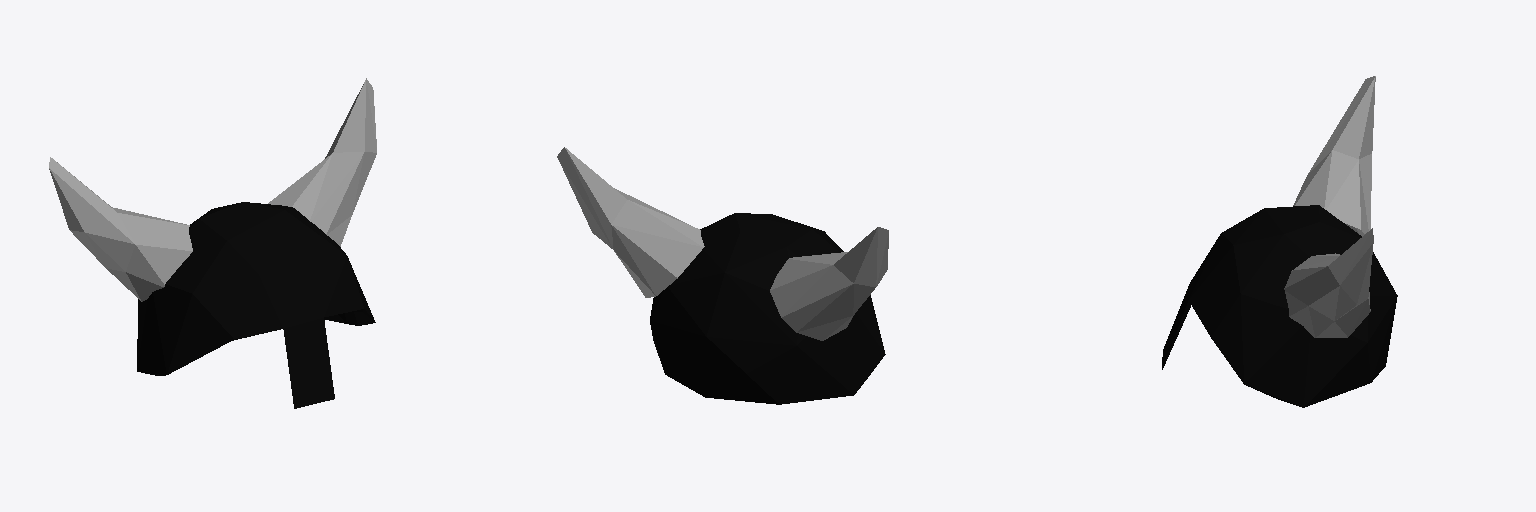
The model's file is helmet_horns.obj.
3 renders of one model, left to right at view 1: azimuth 30°, elevation 25°; view 2: azimuth 150°, elevation 25°; view 3: azimuth 270°, elevation 25°, orthographic.
Parts seen in each view (by area): view 1: Sphere.002_Sphere.003; view 2: Sphere.002_Sphere.003; view 3: Sphere.002_Sphere.003.
Boxes of the visible parts, x1,y1,x2,y2 form: Sphere.002_Sphere.003: [49, 78, 376, 408]; Sphere.002_Sphere.003: [557, 147, 888, 404]; Sphere.002_Sphere.003: [1162, 76, 1397, 407].
Bounding box in the file's own units: 1.83 × 1.12 × 1.14.